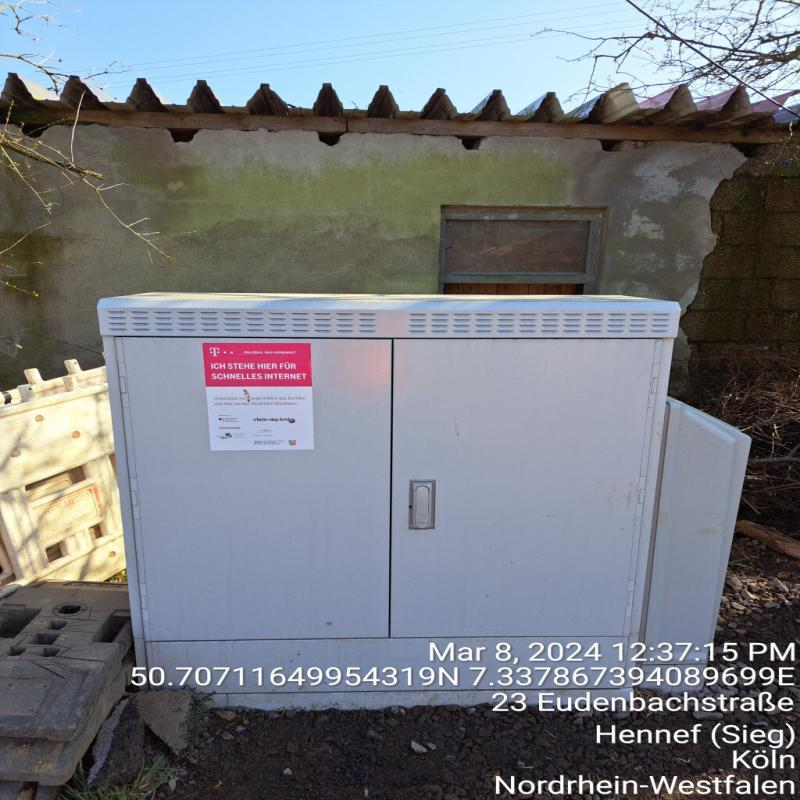NT-Gehause: (97, 284, 730, 638)
Steaker: (204, 340, 318, 456)
